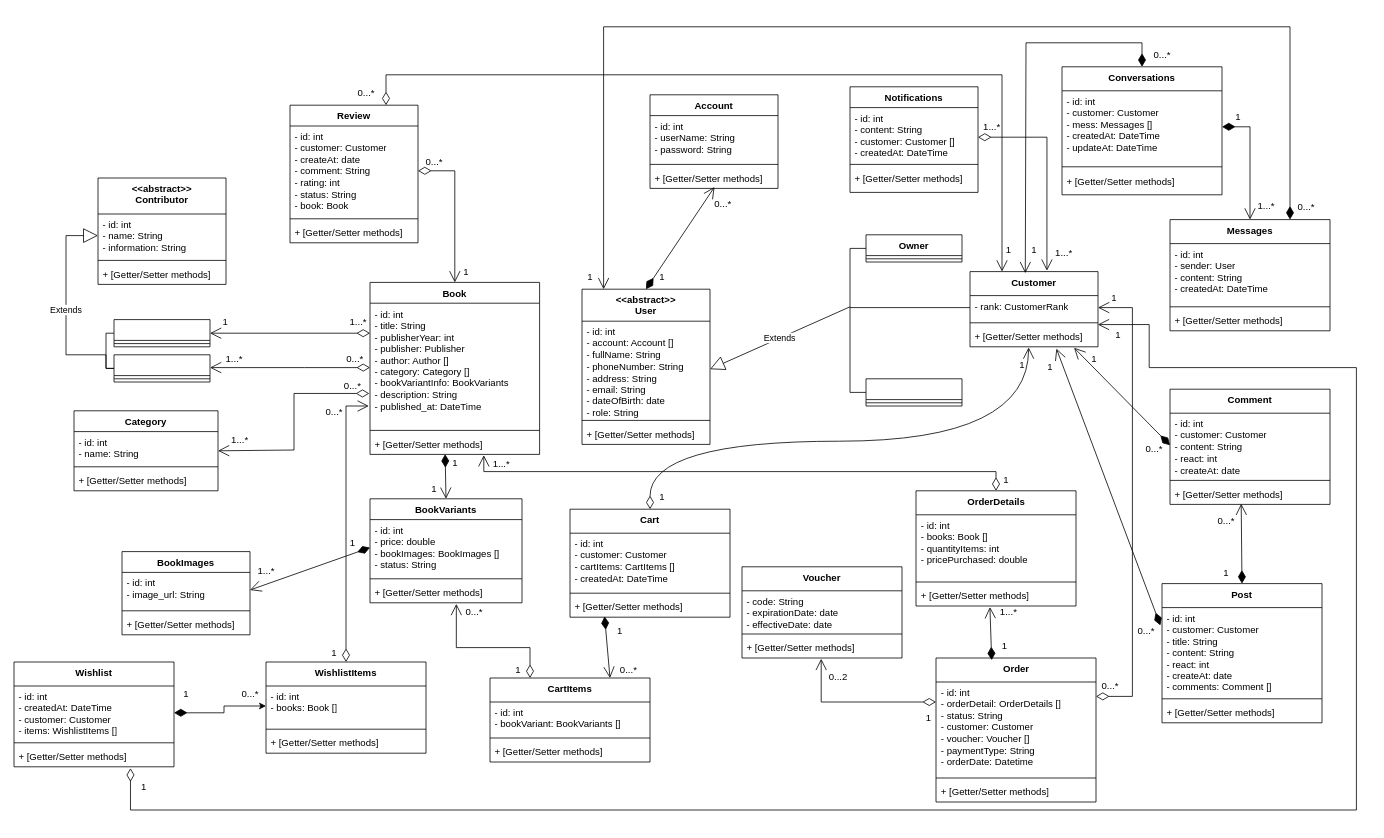
Image size: 1384x838. Some labels were removed from this diagram. The centre of each missing label's shape, as x and y in pixels:
"Author" belongs at (x=161, y=368).
"Publisher" belongs at (x=161, y=333).
"Staff" belongs at (x=913, y=392).
